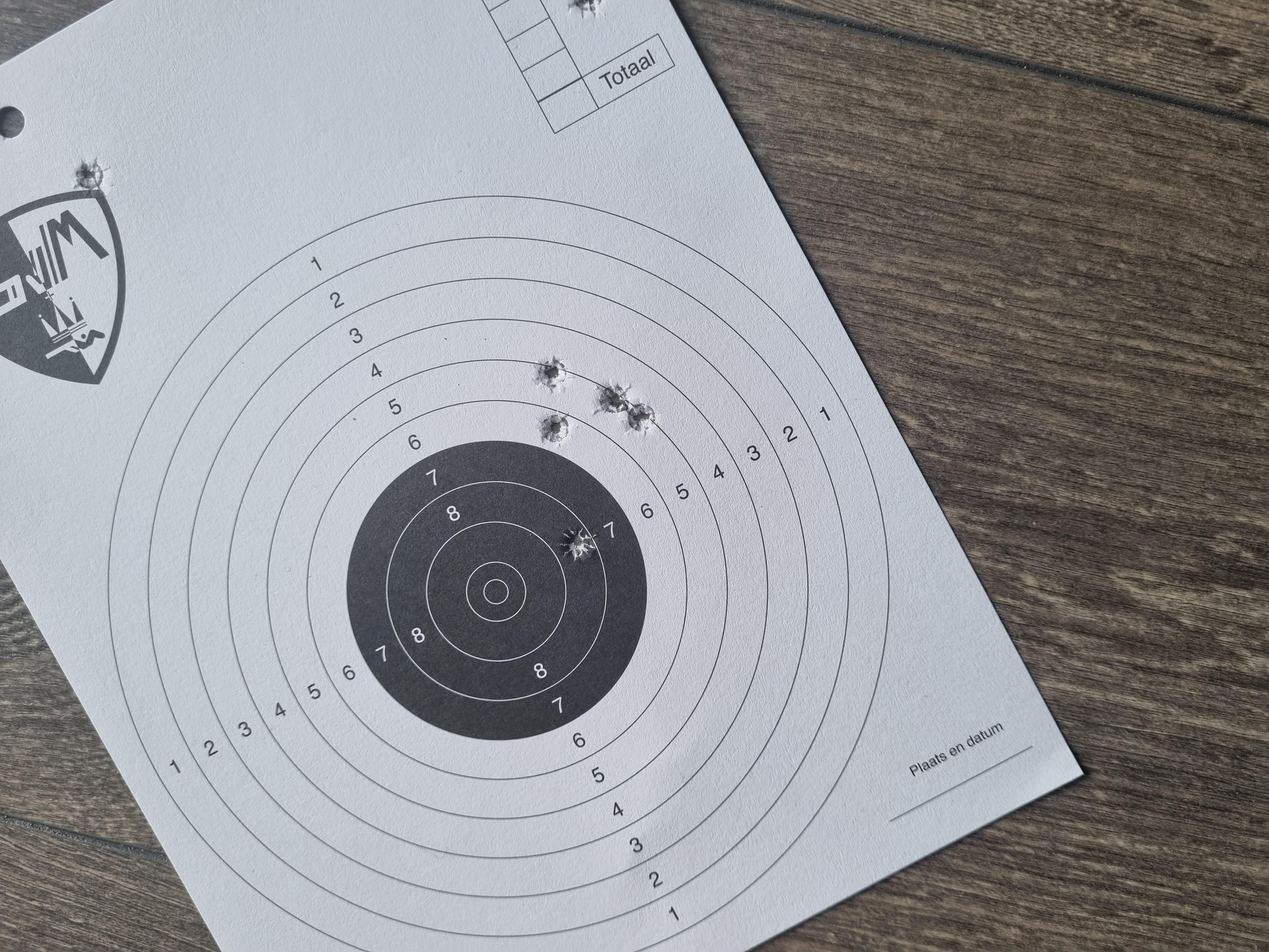hole: (1006, 54, 1061, 83), (715, 445, 759, 474), (522, 421, 567, 448), (744, 402, 793, 424), (676, 404, 721, 427), (687, 471, 732, 491), (1245, 423, 1269, 453)
